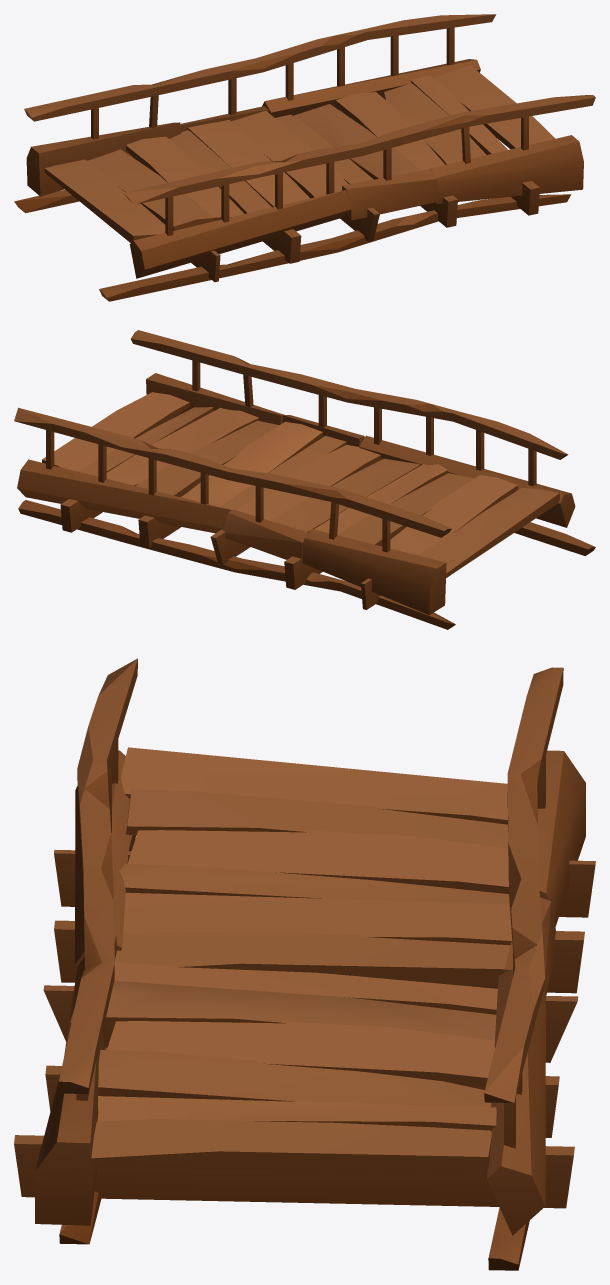
The model's file is StraightBridge1Top.fbx.
The picture shows the model from 3 angles, top to bottom: view 1: azimuth 30°, elevation 25°; view 2: azimuth 150°, elevation 25°; view 3: azimuth 270°, elevation 25°; orthographic projection. The views are drawn at different scales.
Parts seen in each view (by area): view 1: test.001; view 2: test.001; view 3: test.001.
Boxes of the visible parts, x1=… form: test.001: x1=14, y1=14, x2=595, y2=301; test.001: x1=14, y1=330, x2=595, y2=629; test.001: x1=14, y1=658, x2=595, y2=1270.
Bounding box in the file's own units: 2642 × 540 × 1419.
